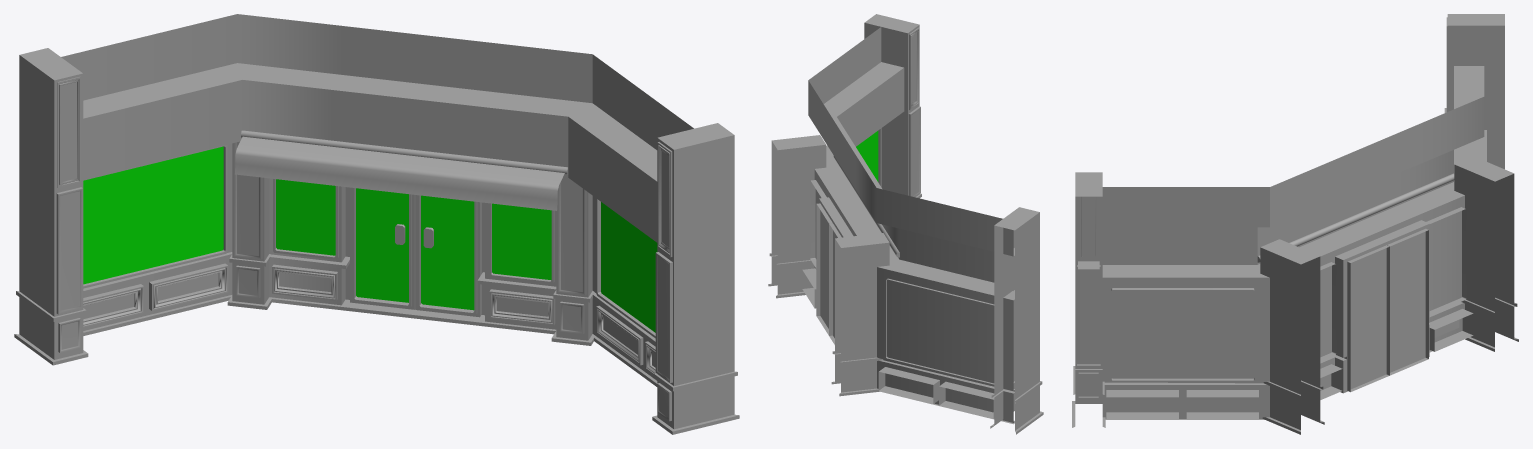
Rendered from SM_Devanture_2.fbx.
The picture shows the model from 3 angles, left to right: view 1: azimuth 30°, elevation 25°; view 2: azimuth 150°, elevation 25°; view 3: azimuth 270°, elevation 25°; orthographic projection. The views are drawn at different scales.
Parts seen in each view (by area): view 1: pCube45, pCube64, pCube66, polySurface14, pCube47, Deventure_café1_pCylinder1, pCube55, polySurface10, pCube56, Deventure_café1_pCube43, Deventure_café1_pCube44, polySurface15 (+6 smaller); view 2: pCube45, pCube66, pCube56, pCube55, pCube64, pCube47, polySurface15, polySurface13, polySurface10, Deventure_café1_pCube43, polySurface16, pCube2 (+2 smaller); view 3: pCube45, pCube55, pCube56, pCube64, pCube66, pCube47, polySurface11, polySurface12, polySurface16, Deventure_café1_pCylinder1, pCube57, Deventure_café1_pCube44 (+3 smaller).
Boxes of the visible parts, left/top/right/bottom form: pCube45: left=61, top=14, right=693, bottom=386; pCube64: left=652, top=123, right=739, bottom=434; pCube66: left=14, top=48, right=88, bottom=365; polySurface14: left=83, top=145, right=227, bottom=288; pCube47: left=350, top=187, right=481, bottom=317; Deventure_café1_pCylinder1: left=235, top=130, right=568, bottom=210; pCube55: left=551, top=177, right=594, bottom=345; polySurface10: left=596, top=198, right=657, bottom=338; pCube56: left=227, top=141, right=271, bottom=309; Deventure_café1_pCube43: left=489, top=203, right=554, bottom=284; Deventure_café1_pCube44: left=273, top=179, right=338, bottom=259; polySurface15: left=149, top=263, right=228, bottom=310; pCube45: left=808, top=27, right=1014, bottom=424; pCube66: left=990, top=207, right=1043, bottom=434; pCube56: left=831, top=233, right=889, bottom=396; pCube55: left=768, top=135, right=826, bottom=298; pCube64: left=864, top=14, right=921, bottom=198; pCube47: left=816, top=203, right=841, bottom=344; polySurface15: left=878, top=367, right=939, bottom=404; polySurface13: left=939, top=381, right=994, bottom=418; polySurface10: left=856, top=128, right=881, bottom=186; Deventure_café1_pCube43: left=810, top=180, right=826, bottom=268; polySurface16: left=909, top=27, right=919, bottom=110; pCube2: left=802, top=268, right=816, bottom=308; pCube45: left=1102, top=66, right=1484, bottom=419; pCube55: left=1260, top=239, right=1324, bottom=434; pCube56: left=1454, top=156, right=1518, bottom=351; pCube64: left=1072, top=172, right=1105, bottom=427; pCube66: left=1444, top=14, right=1504, bottom=169; pCube47: left=1347, top=228, right=1428, bottom=392; polySurface11: left=1106, top=390, right=1178, bottom=419; polySurface12: left=1186, top=390, right=1258, bottom=419; polySurface16: left=1078, top=196, right=1099, bottom=269; Deventure_café1_pCylinder1: left=1257, top=173, right=1454, bottom=262; pCube57: left=1429, top=309, right=1473, bottom=351; Deventure_café1_pCube44: left=1426, top=207, right=1466, bottom=314.
Size of the model in its own units: 1045 by 600 by 1042.
